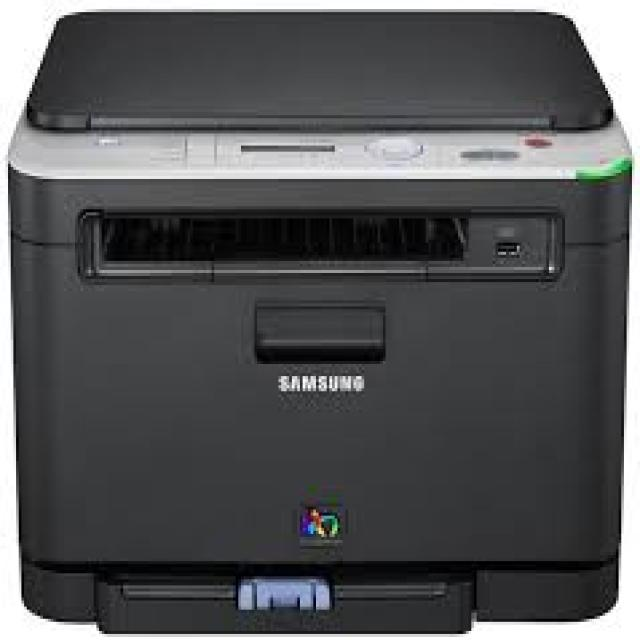printer: (7, 5, 636, 639)
